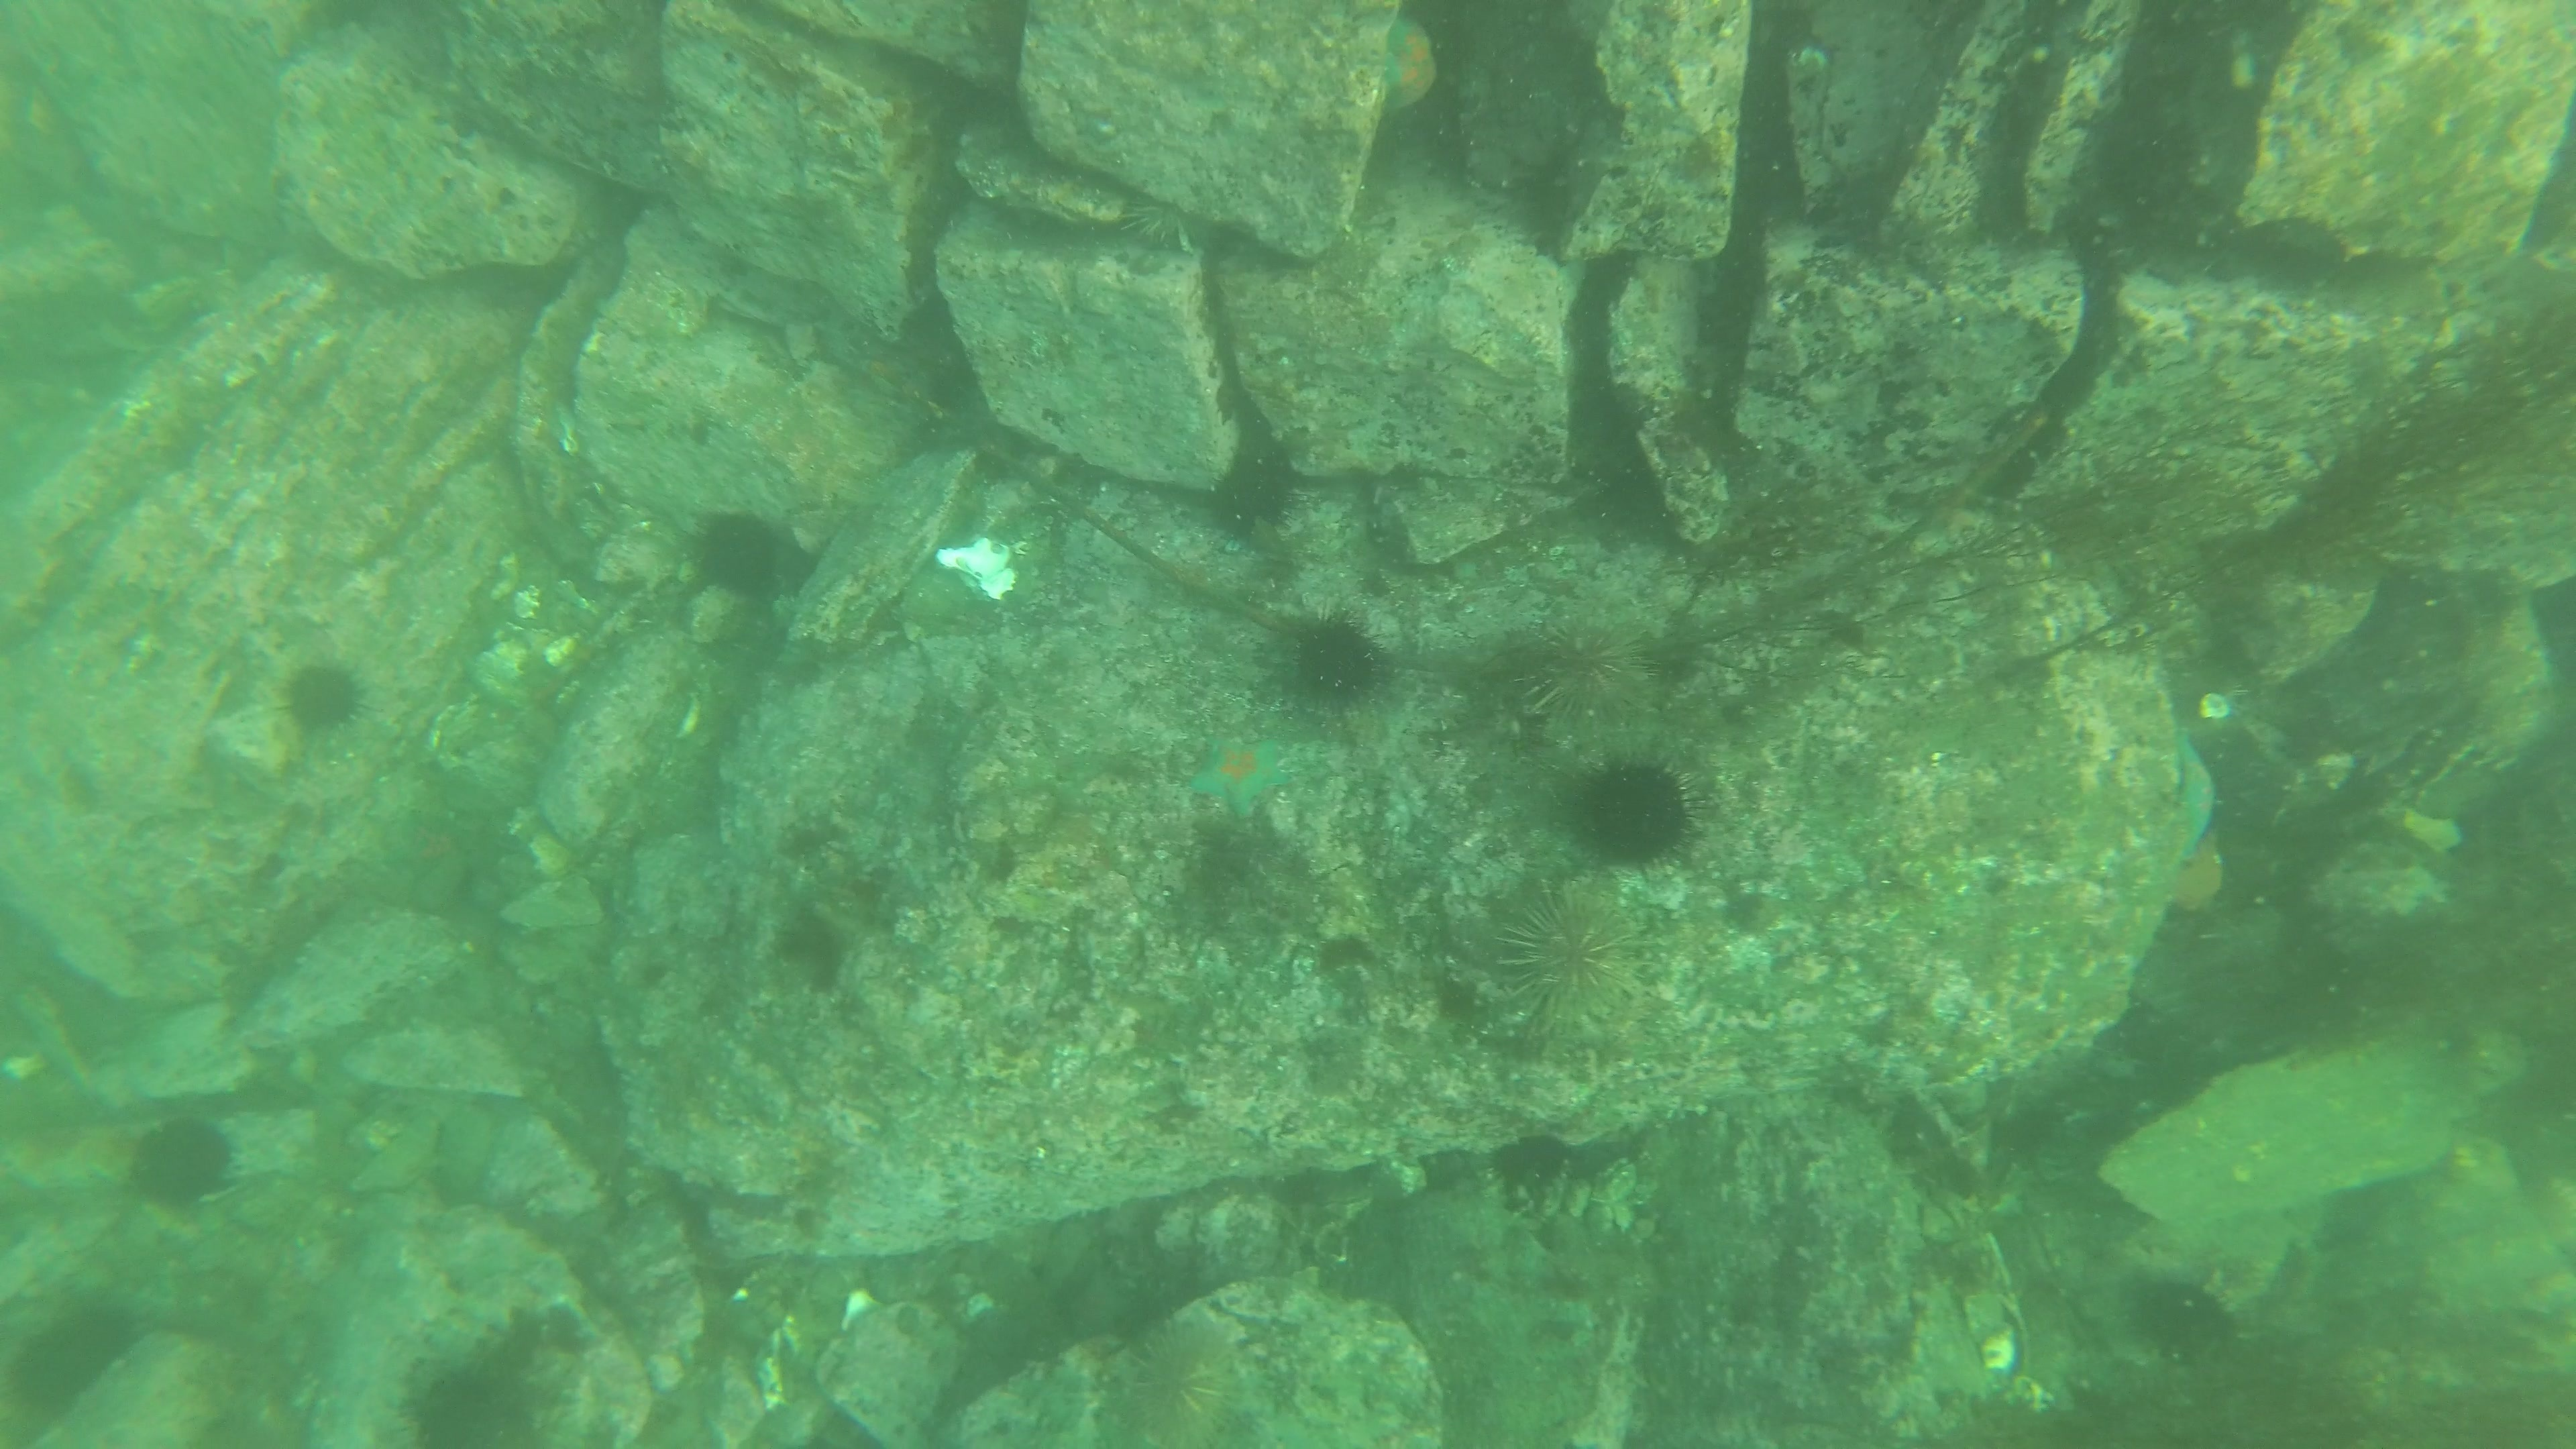echinus: (1488, 878, 1651, 1046), (1100, 1316, 1263, 1449), (4, 1292, 145, 1428), (1560, 750, 1702, 872), (1518, 617, 1663, 734), (1263, 605, 1391, 715), (393, 1353, 547, 1444), (122, 1108, 241, 1215), (681, 502, 801, 605), (2120, 1267, 2236, 1366), (1203, 433, 1307, 543), (274, 653, 372, 743)
starfish: (2150, 717, 2229, 922), (1178, 724, 1299, 821), (1366, 9, 1445, 124)
